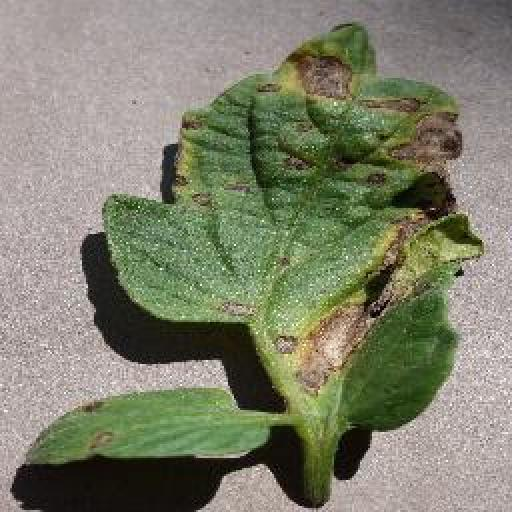disease_tomato: (102, 24, 485, 433)
